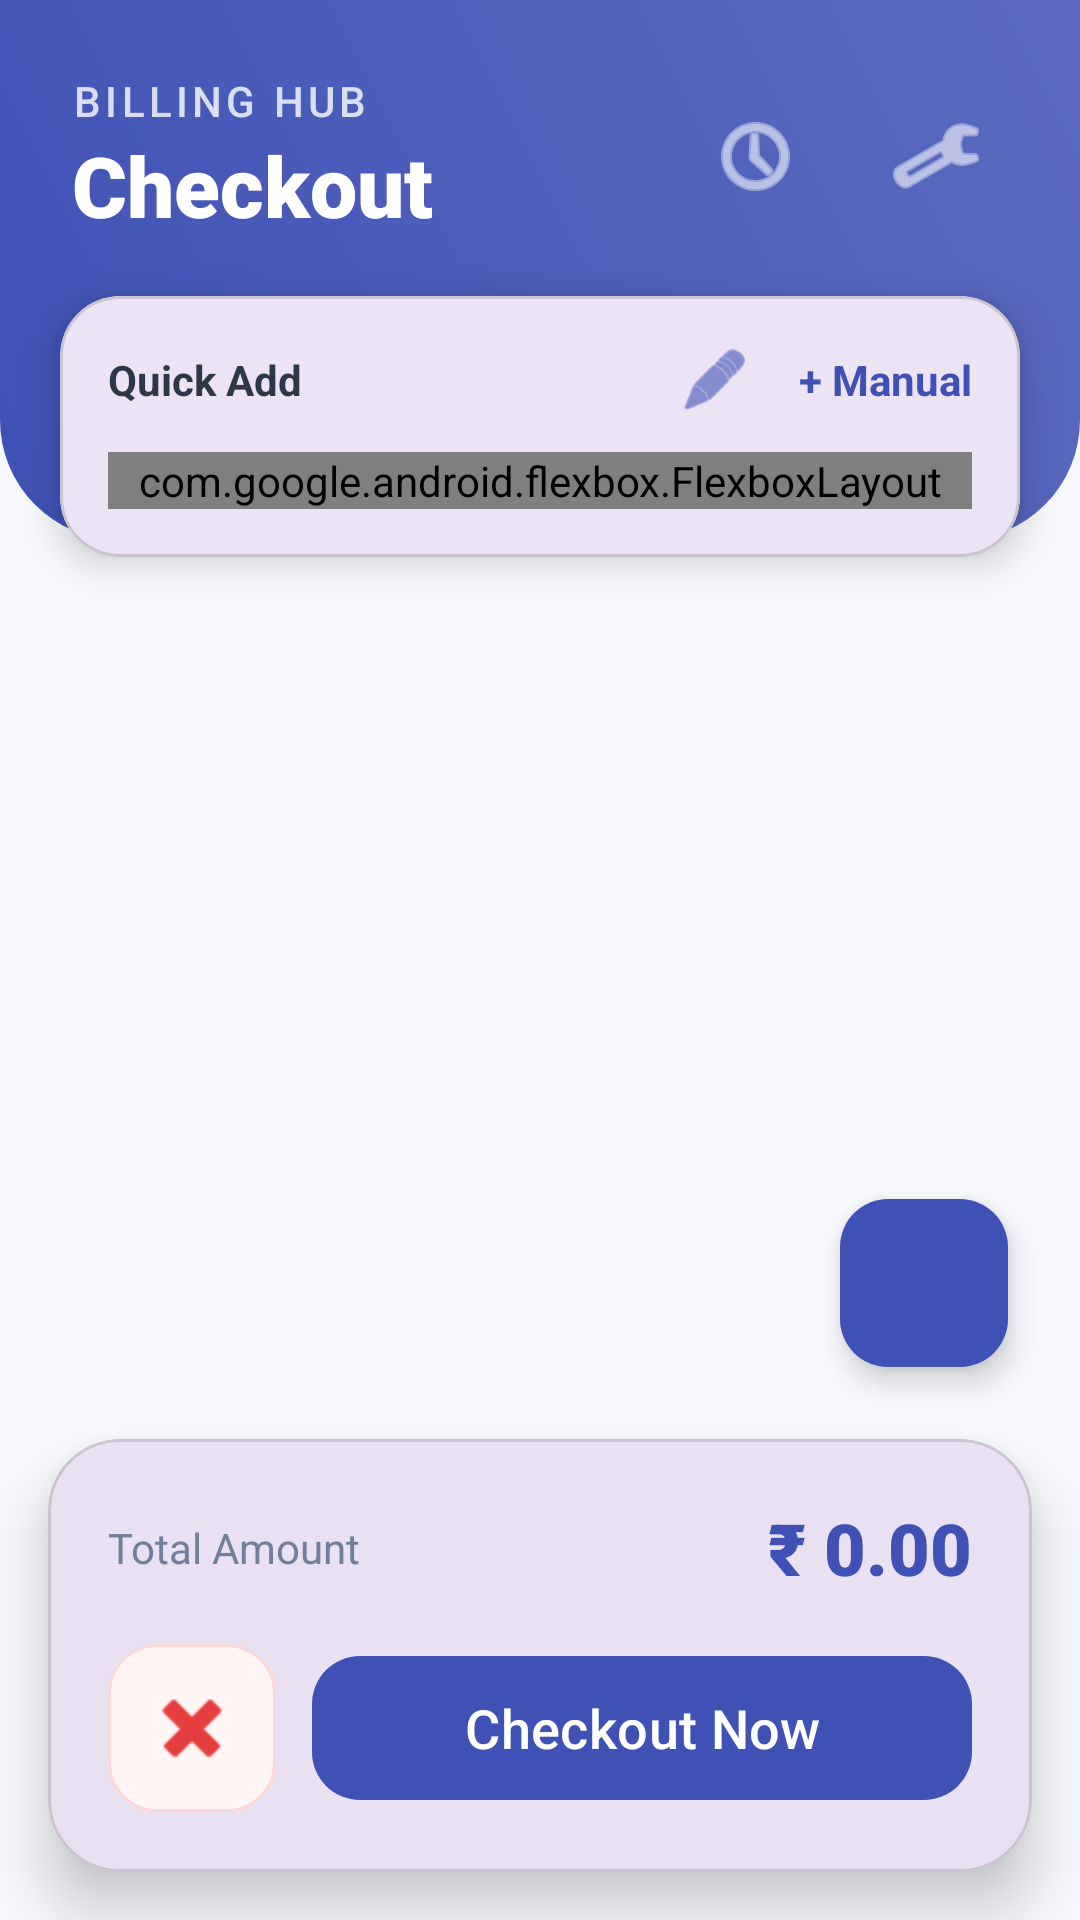

Icons on this 1080px×1920px Android screen, each with its box as (x1, y1, x2, y2):
delete: (108, 1644, 276, 1812)
edit: (684, 349, 745, 410)
preferences: (893, 123, 979, 189)
recent history: (721, 122, 790, 191)
